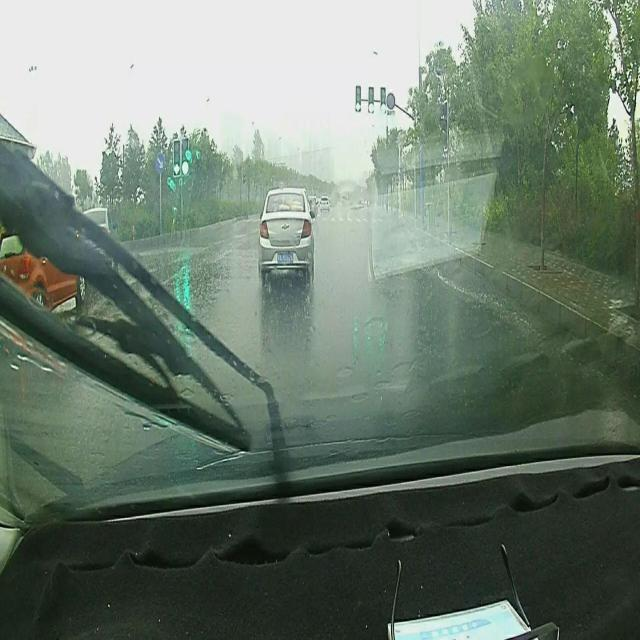car: (257, 186, 315, 276), (316, 193, 332, 213)
